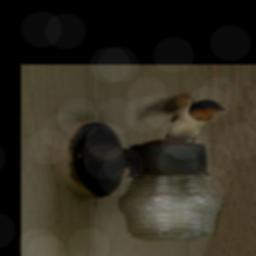Swallow: (137, 92, 226, 143)
